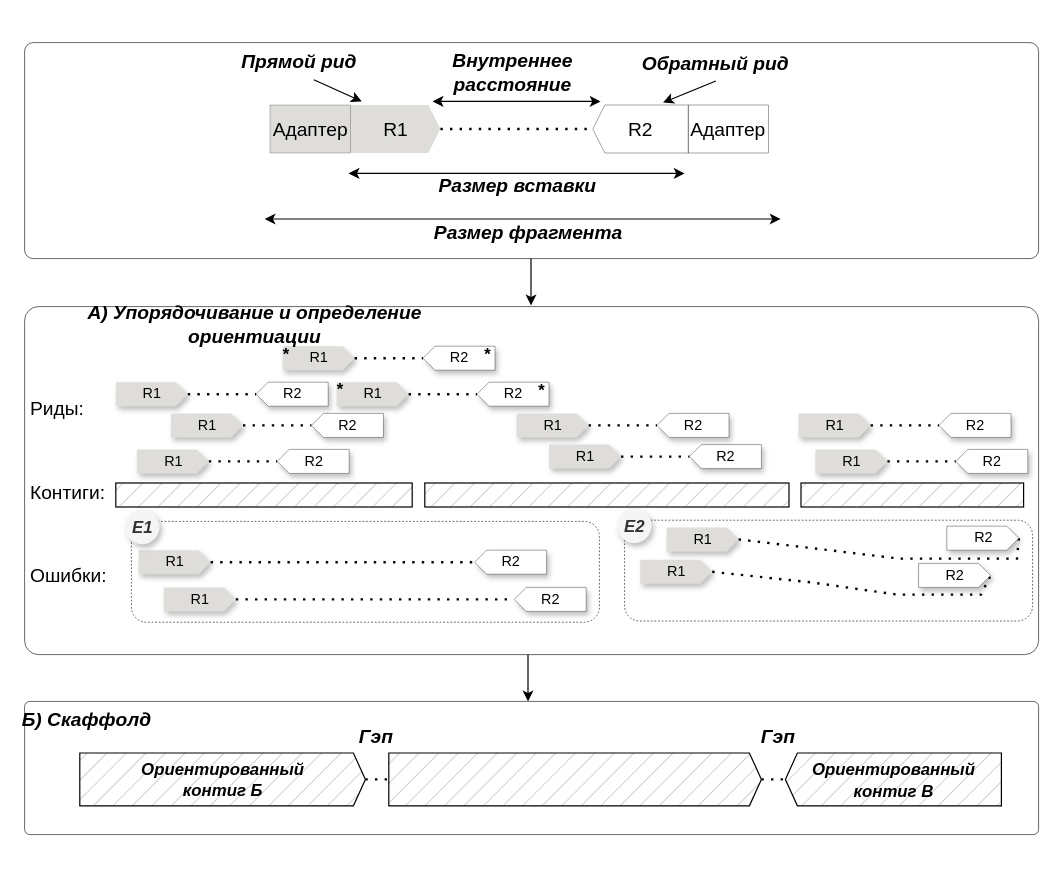
Some shapes in this 1060 by 886 pixel diagram are drawn without their labels. The shapes that lost their labels are listed below. From the top down, each one's centre as x and y in pixels, then its label:
the point at 263,494: Контиг Б
the point at 606,494: Контиг A
the point at 912,494: Контиг В
the point at 574,779: Ориентированный контиг А
